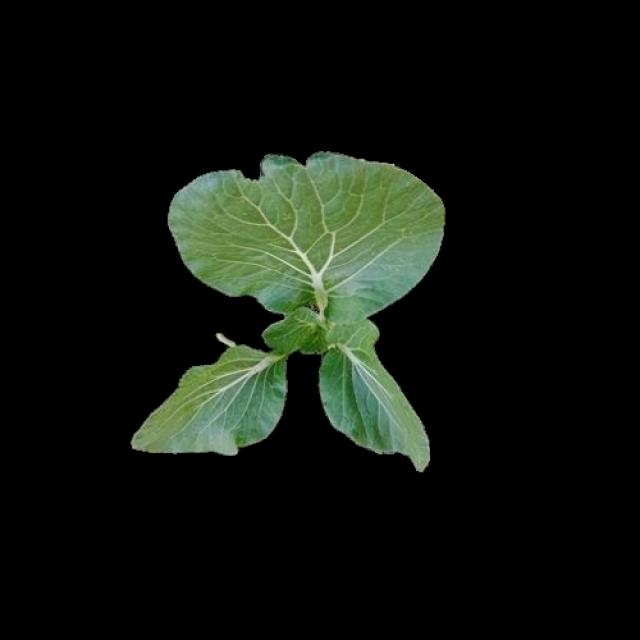healthy: (136, 153, 454, 470)
not-mature: (133, 153, 452, 470)
